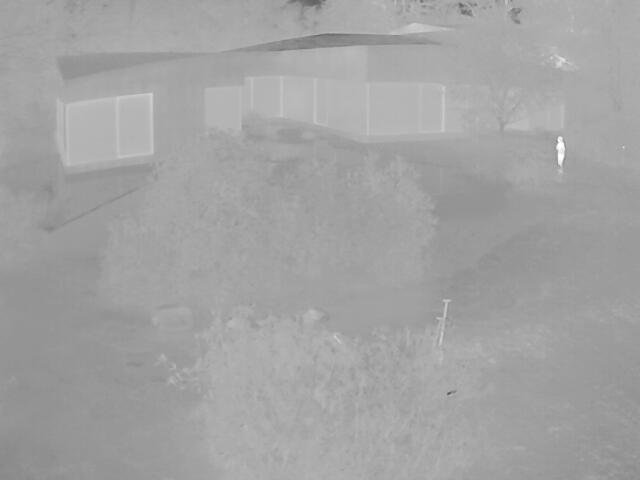person: (553, 135, 567, 170)
